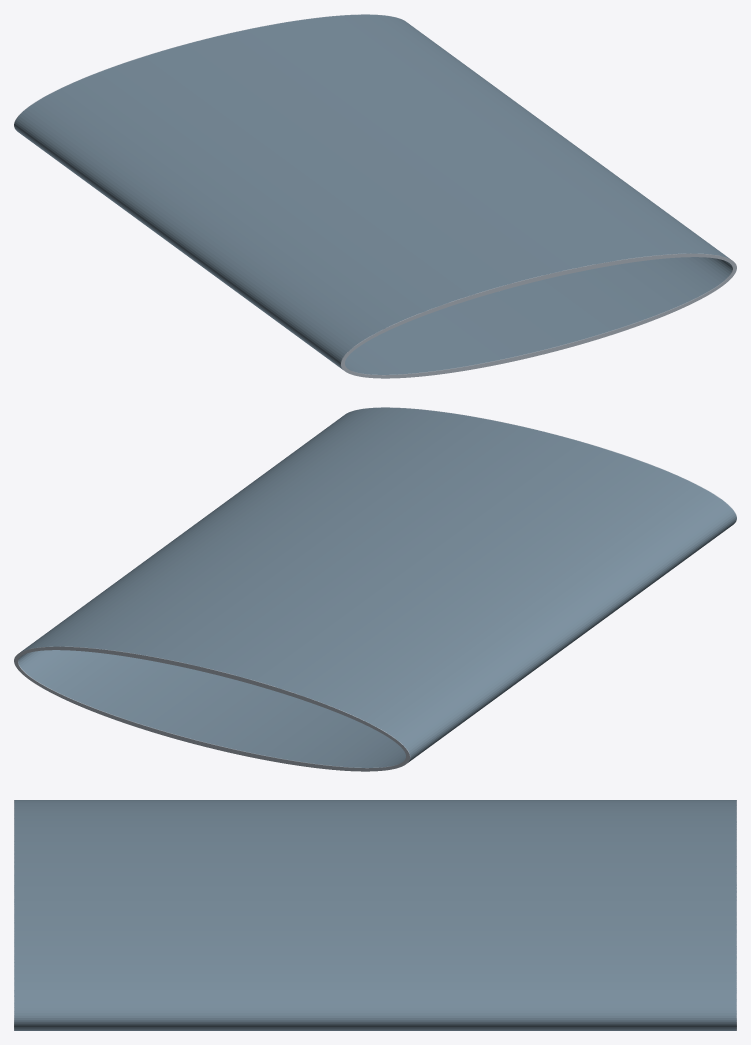
File: shell_envelope.glb
3 views of the same model, one above another, from view 1: azimuth 30°, elevation 25°; view 2: azimuth 150°, elevation 25°; view 3: azimuth 270°, elevation 25° (orthographic). The views are drawn at different scales.
Visible parts, largest first — view 1: shell_envelope; view 2: shell_envelope; view 3: shell_envelope.
Boxes of the visible parts, left/top/right/bottom form: shell_envelope: left=14, top=14, right=736, bottom=378; shell_envelope: left=14, top=407, right=736, bottom=771; shell_envelope: left=14, top=800, right=736, bottom=1030.
Bounding box in the file's own units: 0.6995 × 0.1332 × 1.
